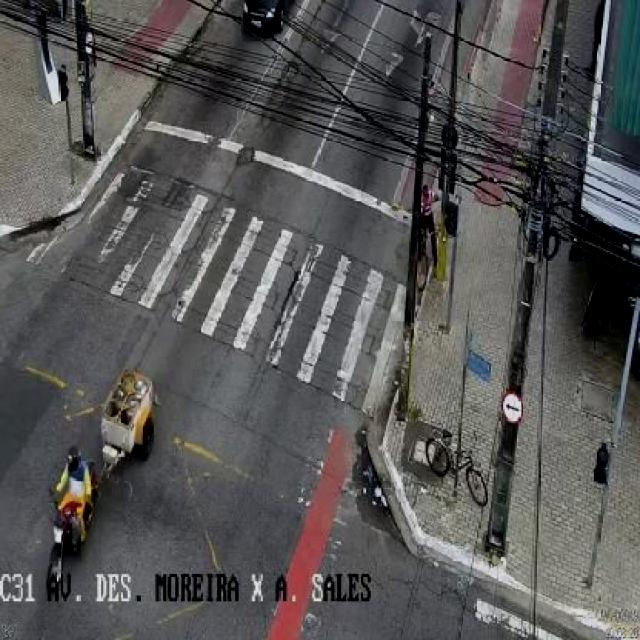Car: (228, 0, 303, 54)
Cycle: (45, 322, 164, 598)
